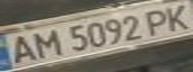0: (84, 19, 109, 49)
2: (118, 11, 148, 42)
5: (63, 21, 90, 53)
9: (103, 15, 127, 46)
A: (3, 32, 42, 66)
K: (160, 1, 193, 31)
M: (24, 27, 66, 60)
P: (139, 6, 178, 37)
